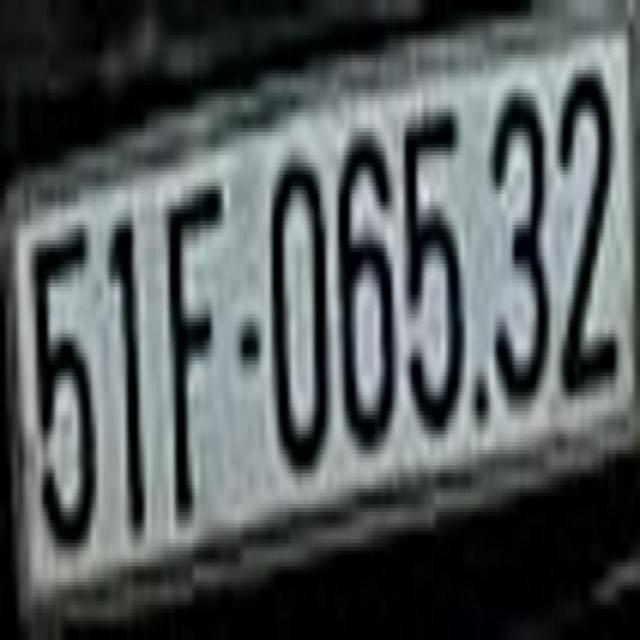0: (268, 120, 331, 493)
1: (103, 163, 155, 547)
2: (556, 35, 624, 411)
3: (489, 39, 552, 419)
5: (28, 186, 103, 566), (399, 70, 467, 454)
6: (332, 105, 400, 465)
F: (160, 132, 229, 527)
